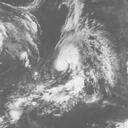cyclone: (53, 42, 85, 75)
